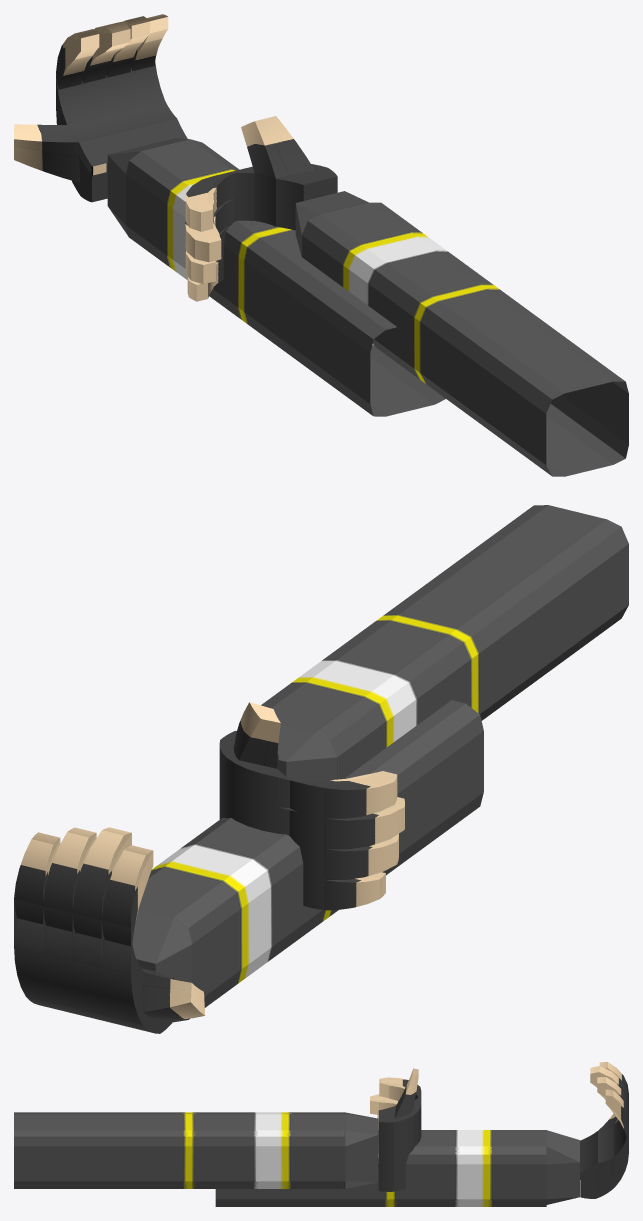
The model's file is rigged-laggy-arms-grip.glb.
The picture shows the model from 3 angles, top to bottom: view 1: azimuth 30°, elevation 25°; view 2: azimuth 150°, elevation 25°; view 3: azimuth 270°, elevation 25°; orthographic projection. The views are drawn at different scales.
Parts seen in each view (by area): view 1: Object_8, Object_5; view 2: Object_8, Object_5; view 3: Object_8, Object_5.
Part boxes in pixels (box(x1,y1,x2,y2)): Object_8: box(185, 116, 628, 476); Object_5: box(14, 14, 445, 416); Object_8: box(219, 505, 628, 910); Object_5: box(14, 700, 483, 1033); Object_8: box(14, 1068, 421, 1191); Object_5: box(215, 1062, 628, 1206).
Bounding box in the file's own units: 0.2193 × 0.2272 × 1.01.
1 material, 1 textured.
